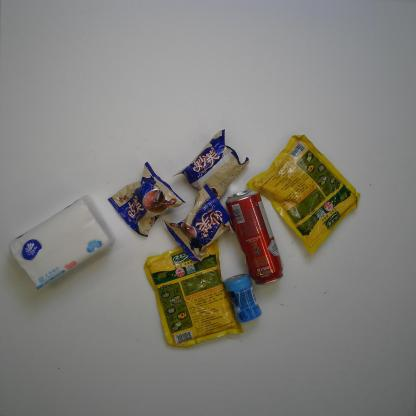Alcohol: (225, 189, 284, 286)
Dessert: (107, 161, 186, 238), (172, 129, 250, 203), (163, 184, 235, 262)
Gum: (223, 274, 263, 324)
Seasoner: (246, 134, 360, 255), (142, 239, 244, 349)
Tissue: (8, 194, 116, 289)
